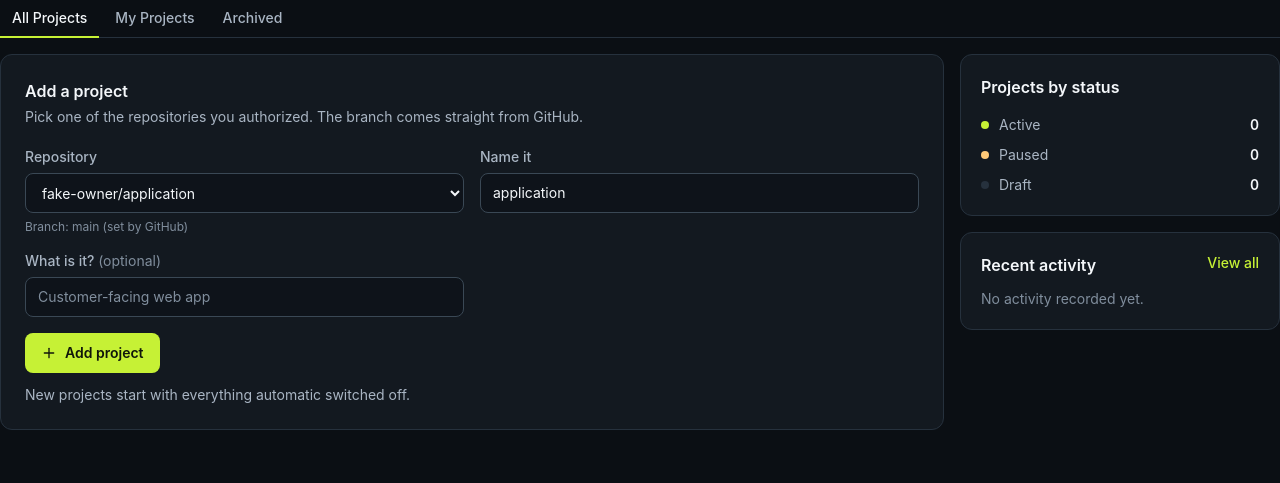
Test: ProjectsConsole add-project form › fills in, submits, and reports the created project
Replace the text in the field labelled "Name it" with "Storefront Rebuild": (700, 193) [480,173,919,213]
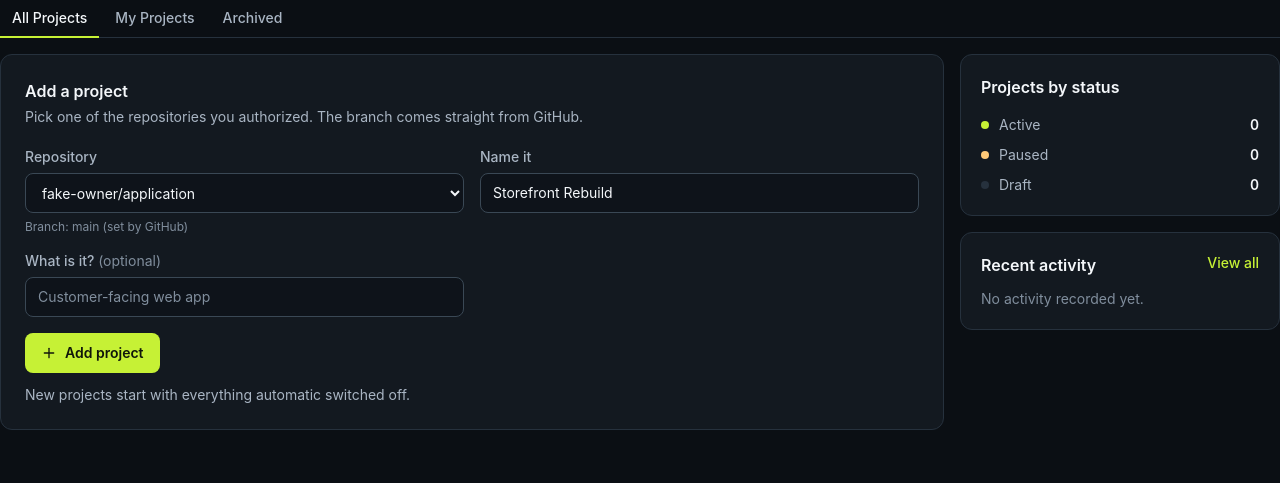
In the field labelled "What is it? (optional)": (244, 297) [25,277,464,317], type "A fake project used to exercise the form."
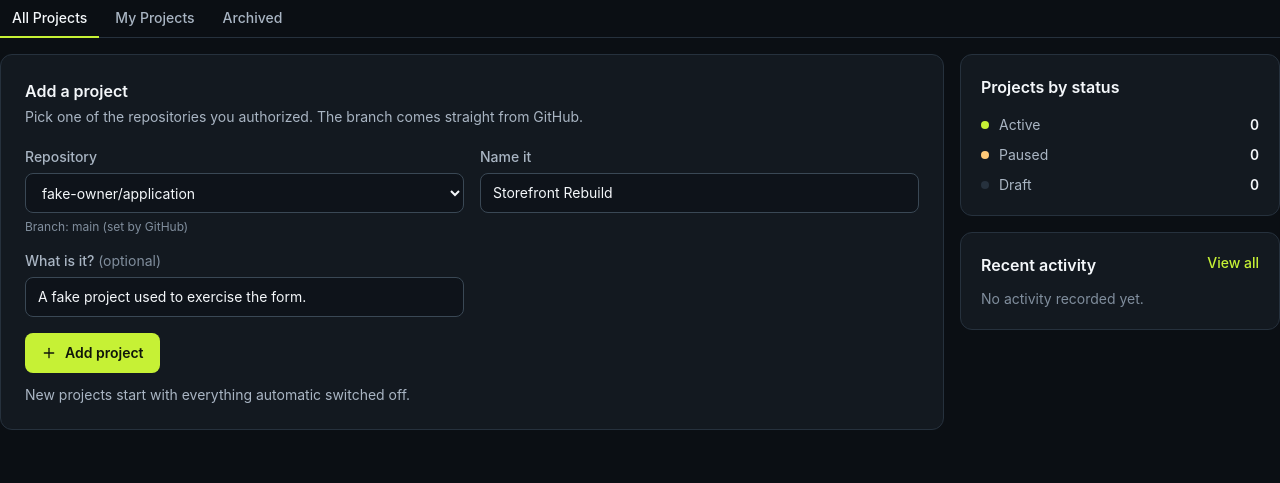
Click the button "Add project": (92, 353) [25,333,160,373]
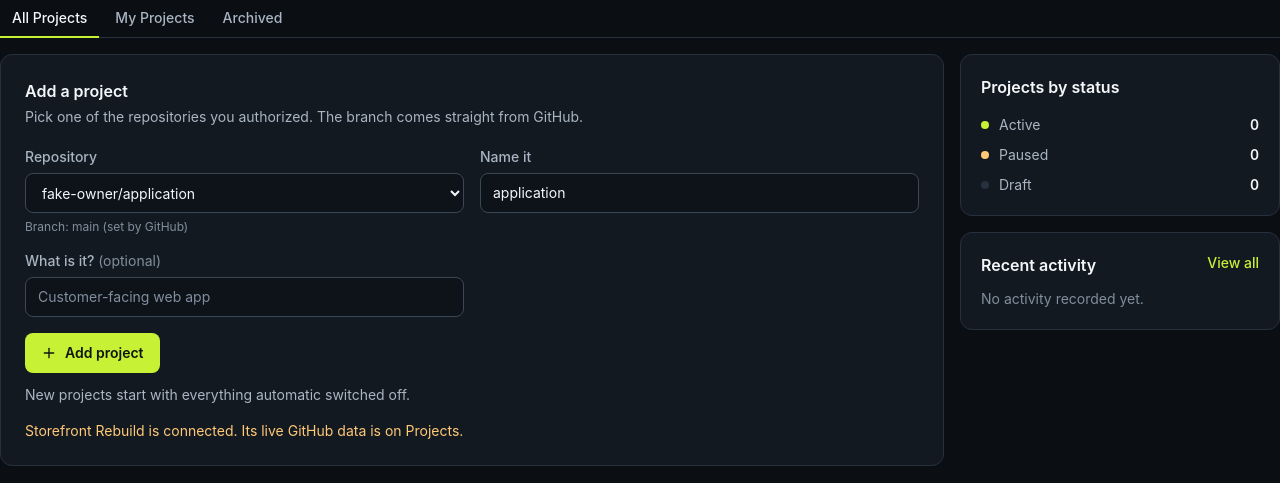
Now the text "Storefront Rebuild is connected" is shown, box [25,422,463,439]
